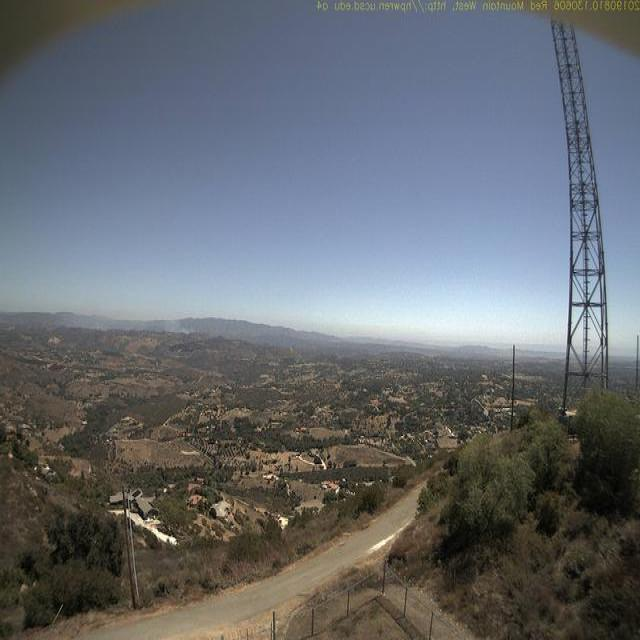Smoke: (138, 313, 194, 336)
